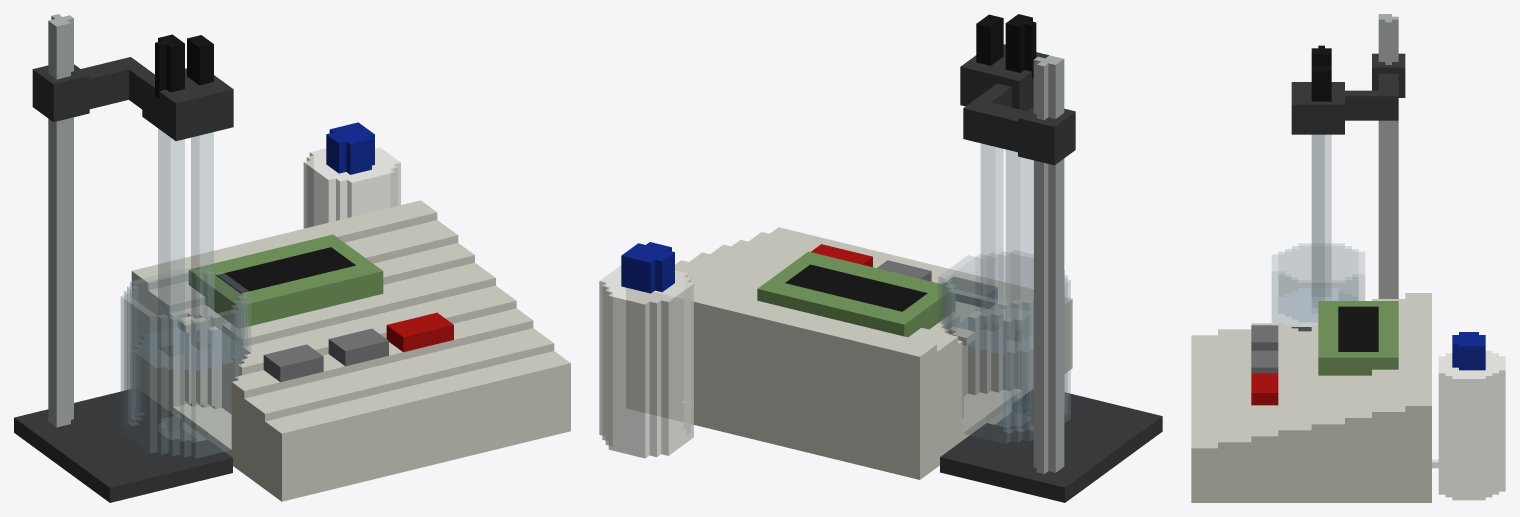
The model's file is ph_meter.glb.
3 renders of one model, left to right at view 1: azimuth 30°, elevation 25°; view 2: azimuth 150°, elevation 25°; view 3: azimuth 270°, elevation 25°, orthographic. The views are drawn at different scales.
Parts seen in each view (by area): view 1: ph_meter:compound; view 2: ph_meter:compound; view 3: ph_meter:compound.
Boxes of the visible parts, bbox=[...] form: ph_meter:compound: bbox=[14, 14, 570, 502]; ph_meter:compound: bbox=[599, 14, 1162, 502]; ph_meter:compound: bbox=[1191, 14, 1505, 502].
Size of the model in its own units: 0.232 by 0.22 by 0.188.
